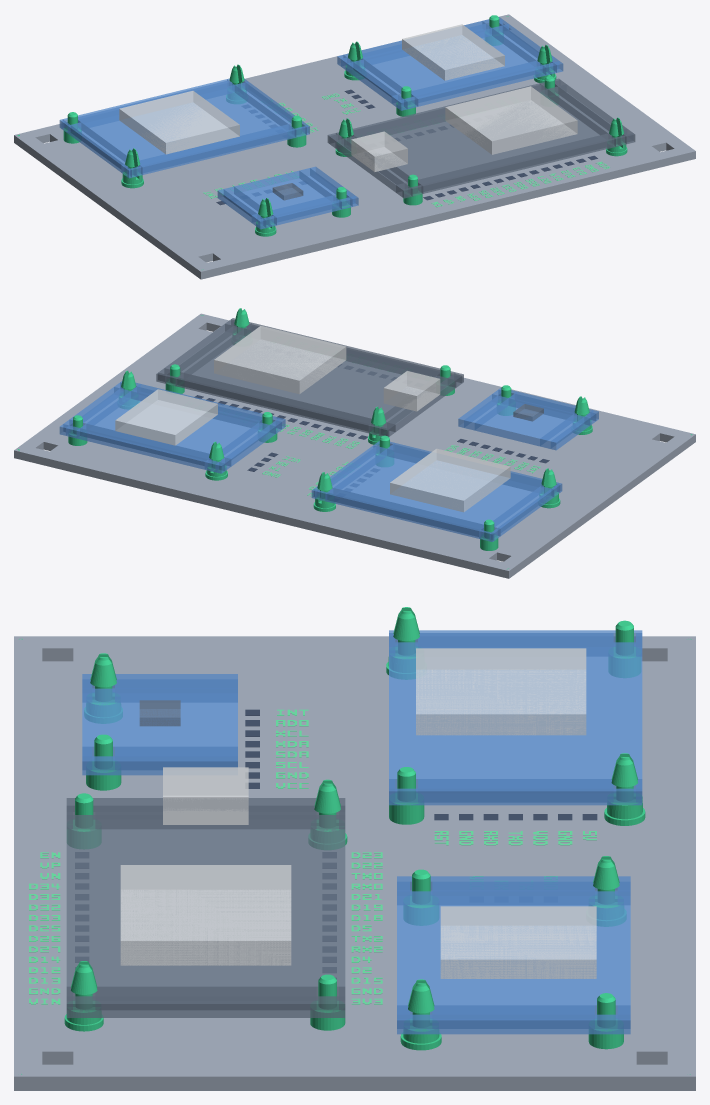
The model's file is SIMULACION_3_GANCHOS_SNAP_FIT_DETALLE.glb.
3 views of the same model, one above another, from view 1: azimuth 30°, elevation 25°; view 2: azimuth 150°, elevation 25°; view 3: azimuth 270°, elevation 25° (orthographic). The views are drawn at different scales.
Parts seen in each view (by area): view 1: Baquelita_PETG_Gris, Modulos_PCB_Azul_Translucido, Blindajes_RF_Plata, Modulo_ESP32_Translucido, Soportes_Ganchos_Y_Palitos_Verde, Nombres_Pines_PETG_Verde, Huecos_49_Pines; view 2: Baquelita_PETG_Gris, Modulos_PCB_Azul_Translucido, Modulo_ESP32_Translucido, Blindajes_RF_Plata, Soportes_Ganchos_Y_Palitos_Verde, Huecos_49_Pines, Nombres_Pines_PETG_Verde; view 3: Baquelita_PETG_Gris, Modulos_PCB_Azul_Translucido, Blindajes_RF_Plata, Modulo_ESP32_Translucido, Soportes_Ganchos_Y_Palitos_Verde, Nombres_Pines_PETG_Verde, Huecos_49_Pines.
Boxes of the visible parts, x1,y1,x2,y2 form: Baquelita_PETG_Gris: (14, 14, 695, 279); Modulos_PCB_Azul_Translucido: (59, 17, 563, 229); Blindajes_RF_Plata: (119, 24, 577, 171); Modulo_ESP32_Translucido: (272, 78, 635, 200); Soportes_Ganchos_Y_Palitos_Verde: (17, 15, 627, 269); Nombres_Pines_PETG_Verde: (203, 93, 609, 207); Huecos_49_Pines: (216, 89, 597, 205); Baquelita_PETG_Gris: (14, 313, 695, 578); Modulos_PCB_Azul_Translucido: (59, 381, 598, 541); Modulo_ESP32_Translucido: (156, 318, 543, 436); Blindajes_RF_Plata: (115, 326, 510, 512); Soportes_Ganchos_Y_Palitos_Verde: (18, 308, 692, 569); Huecos_49_Pines: (194, 364, 549, 491); Nombres_Pines_PETG_Verde: (262, 424, 540, 496); Baquelita_PETG_Gris: (14, 636, 695, 1090); Modulos_PCB_Azul_Translucido: (82, 630, 642, 1034); Blindajes_RF_Plata: (120, 648, 596, 978); Modulo_ESP32_Translucido: (66, 700, 345, 1017); Soportes_Ganchos_Y_Palitos_Verde: (19, 607, 691, 1074); Nombres_Pines_PETG_Verde: (29, 709, 596, 1004); Huecos_49_Pines: (75, 709, 597, 978).
Size of the model in its own units: 107 by 10.8 by 70.
